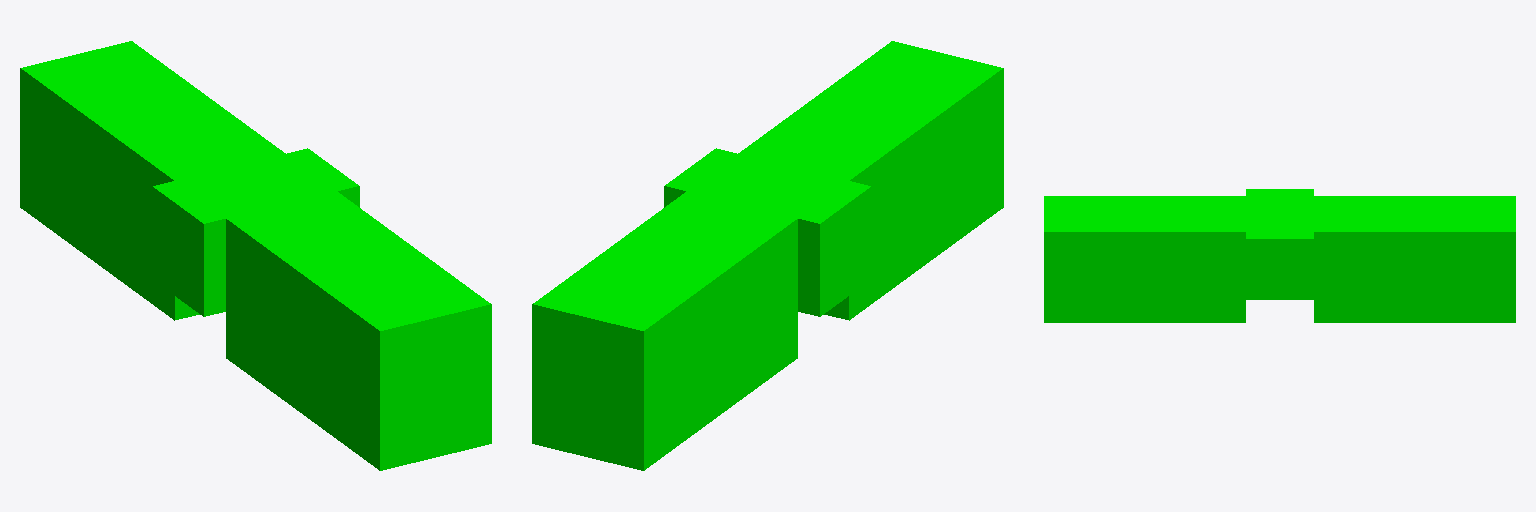
robot.urdf — robot:
<robot name = "robot">
    <link name="root">
        <inertial>
            <origin xyz="0.0 0.0 1.5" rpy="0 0 0"/>
            <mass value="1" />
            <inertia ixx="100" ixy="0" ixz="0" iyy="100" iyz="0" izz="100" />
        </inertial>
        <visual>
            <origin xyz="0.0 0.0 1.5" rpy="0 0 0"/>
            <geometry>
                <box size="0 0 0.0001" />
            </geometry>
            <material name="Green">
                <color rgba="0 1.0 0.0 1.0"/>
            </material>
        </visual>
        <collision>
            <origin xyz="0.0 0.0 1.5" rpy="0 0 0"/>
            <geometry>
                <box size="0 0 0.0001" />
            </geometry>
        </collision>
    </link>
    <joint name="root_000" type="revolute">
       <parent link="root"/>
       <child  link="000"/>
       <origin rpy="0 0 0" xyz="0.0 0.0 1.5" />
     <axis xyz="1 0 0"/>
       <limit effort="0.0" lower="-3.14159" upper="3.14159" velocity="0.0"/>
    </joint>
    <link name="000">
        <inertial>
            <origin xyz="0.0 0.0 -0.1" rpy="0 0 0"/>
            <mass value="1" />
            <inertia ixx="100" ixy="0" ixz="0" iyy="100" iyz="0" izz="100" />
        </inertial>
        <visual>
            <origin xyz="0.0 0.0 -0.1" rpy="0 0 0"/>
            <geometry>
                <box size="0.7 0.4 0.2" />
            </geometry>
            <material name="Green">
                <color rgba="0 1.0 0.0 1.0"/>
            </material>
        </visual>
        <collision>
            <origin xyz="0.0 0.0 -0.1" rpy="0 0 0"/>
            <geometry>
                <box size="0.7 0.4 0.2" />
            </geometry>
        </collision>
    </link>
    <joint name="000_010" type="revolute">
       <parent link="000"/>
       <child  link="010"/>
       <origin rpy="0 0 0" xyz="0.0 0.0 -0.2" />
     <axis xyz="0 0 1"/>
       <limit effort="0.0" lower="-3.14159" upper="3.14159" velocity="0.0"/>
    </joint>
    <link name="010">
        <inertial>
            <origin xyz="0.0 0.0 -0.1" rpy="0 0 0"/>
            <mass value="1" />
            <inertia ixx="100" ixy="0" ixz="0" iyy="100" iyz="0" izz="100" />
        </inertial>
        <visual>
            <origin xyz="0.0 0.0 -0.1" rpy="0 0 0"/>
            <geometry>
                <box size="0.7 0.4 0.2" />
            </geometry>
            <material name="Green">
                <color rgba="0 1.0 0.0 1.0"/>
            </material>
        </visual>
        <collision>
            <origin xyz="0.0 0.0 -0.1" rpy="0 0 0"/>
            <geometry>
                <box size="0.7 0.4 0.2" />
            </geometry>
        </collision>
    </link>
    <joint name="010_010-100" type="revolute">
       <parent link="010"/>
       <child  link="010-100"/>
       <origin rpy="0 0 0" xyz="0.0 0.2 -0.1" />
     <axis xyz="0 1 0"/>
       <limit effort="0.0" lower="-3.14159" upper="3.14159" velocity="0.0"/>
    </joint>
    <link name="010-100">
        <inertial>
            <origin xyz="0.0 0.3 -0.0" rpy="0 0 0"/>
            <mass value="1" />
            <inertia ixx="100" ixy="0" ixz="0" iyy="100" iyz="0" izz="100" />
        </inertial>
        <visual>
            <origin xyz="0.0 0.3 -0.0" rpy="0 0 0"/>
            <geometry>
                <box size="0.5 0.6 0.6" />
            </geometry>
            <material name="Green">
                <color rgba="0 1.0 0.0 1.0"/>
            </material>
        </visual>
        <collision>
            <origin xyz="0.0 0.3 -0.0" rpy="0 0 0"/>
            <geometry>
                <box size="0.5 0.6 0.6" />
            </geometry>
        </collision>
    </link>
    <joint name="010-100_010-110" type="revolute">
       <parent link="010-100"/>
       <child  link="010-110"/>
       <origin rpy="0 0 0" xyz="0.0 0.6 -0.0" />
     <axis xyz="0 1 0"/>
       <limit effort="0.0" lower="-3.14159" upper="3.14159" velocity="0.0"/>
    </joint>
    <link name="010-110">
        <inertial>
            <origin xyz="0.0 0.3 -0.0" rpy="0 0 0"/>
            <mass value="1" />
            <inertia ixx="100" ixy="0" ixz="0" iyy="100" iyz="0" izz="100" />
        </inertial>
        <visual>
            <origin xyz="0.0 0.3 -0.0" rpy="0 0 0"/>
            <geometry>
                <box size="0.5 0.6 0.6" />
            </geometry>
            <material name="Green">
                <color rgba="0 1.0 0.0 1.0"/>
            </material>
        </visual>
        <collision>
            <origin xyz="0.0 0.3 -0.0" rpy="0 0 0"/>
            <geometry>
                <box size="0.5 0.6 0.6" />
            </geometry>
        </collision>
    </link>
    <joint name="010_010-101" type="revolute">
       <parent link="010"/>
       <child  link="010-101"/>
       <origin rpy="0 0 0" xyz="0.0 -0.2 -0.1" />
     <axis xyz="0 1 0"/>
       <limit effort="0.0" lower="-3.14159" upper="3.14159" velocity="0.0"/>
    </joint>
    <link name="010-101">
        <inertial>
            <origin xyz="0.0 -0.3 -0.0" rpy="0 0 0"/>
            <mass value="1" />
            <inertia ixx="100" ixy="0" ixz="0" iyy="100" iyz="0" izz="100" />
        </inertial>
        <visual>
            <origin xyz="0.0 -0.3 -0.0" rpy="0 0 0"/>
            <geometry>
                <box size="0.5 0.6 0.6" />
            </geometry>
            <material name="Green">
                <color rgba="0 1.0 0.0 1.0"/>
            </material>
        </visual>
        <collision>
            <origin xyz="0.0 -0.3 -0.0" rpy="0 0 0"/>
            <geometry>
                <box size="0.5 0.6 0.6" />
            </geometry>
        </collision>
    </link>
    <joint name="010-101_010-111" type="revolute">
       <parent link="010-101"/>
       <child  link="010-111"/>
       <origin rpy="0 0 0" xyz="0.0 -0.6 -0.0" />
     <axis xyz="0 1 0"/>
       <limit effort="0.0" lower="-3.14159" upper="3.14159" velocity="0.0"/>
    </joint>
    <link name="010-111">
        <inertial>
            <origin xyz="0.0 -0.3 -0.0" rpy="0 0 0"/>
            <mass value="1" />
            <inertia ixx="100" ixy="0" ixz="0" iyy="100" iyz="0" izz="100" />
        </inertial>
        <visual>
            <origin xyz="0.0 -0.3 -0.0" rpy="0 0 0"/>
            <geometry>
                <box size="0.5 0.6 0.6" />
            </geometry>
            <material name="Green">
                <color rgba="0 1.0 0.0 1.0"/>
            </material>
        </visual>
        <collision>
            <origin xyz="0.0 -0.3 -0.0" rpy="0 0 0"/>
            <geometry>
                <box size="0.5 0.6 0.6" />
            </geometry>
        </collision>
    </link>
</robot>

--- Facts derived from the render (not from the file) ---
3 views of the same robot in one strip: view 1: azimuth 30°, elevation 25°; view 2: azimuth 150°, elevation 25°; view 3: azimuth 270°, elevation 25° (orthographic).
Model robot with 7 links and 6 joints (6 revolute), rooted at root, posed all joints at 0.
Visible links, largest first — view 1: 010-111, 010-110, 010-101, 010-100, 000, 010; view 2: 010-110, 010-111, 010-100, 010-101, 000, 010; view 3: 010-100, 010-110, 010-101, 010-111, 000, 010.
Link boxes in pixels (x1,y1,x2,y2): 010-111: (303,248,491,470); 010-110: (20,41,207,263); 010-101: (226,191,413,413); 010-100: (98,97,285,320); 000: (152,148,359,269); 010: (152,233,225,316); 010-110: (532,248,720,470); 010-111: (816,41,1003,263); 010-100: (610,191,797,413); 010-101: (738,97,925,320); 000: (664,148,871,269); 010: (798,233,871,316); 010-100: (1314,196,1414,322); 010-110: (1415,196,1515,322); 010-101: (1145,196,1245,322); 010-111: (1044,196,1144,322); 000: (1246,189,1313,268); 010: (1246,269,1313,299).
Bounding box of the posed robot: 0.7 × 2.8 × 0.6 m (x, y, z).
Geometry: primitives only (box / cylinder / sphere), no mesh files.